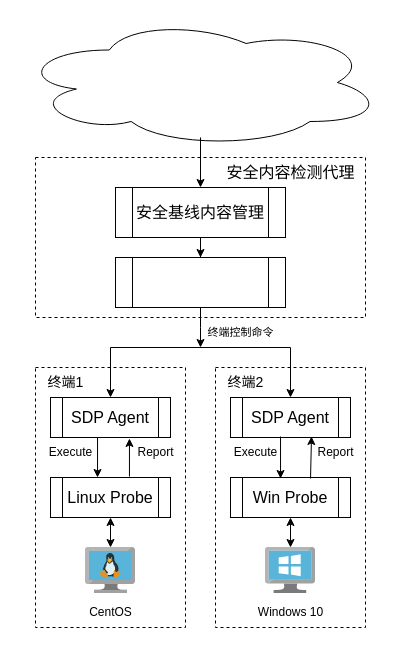
The diagram is 400 pixels wide and 645 high, and some of its shapes have lost their labels. Here are the shapes that lost their labels. From the top down, the centre of each, then its label:
At point 200,82: "软件资产清单和安全配置/主机账号管理/ 应用软件安全/漏洞检测/自定义检测内容 ·····".
At point 200,282: "终端控制".
